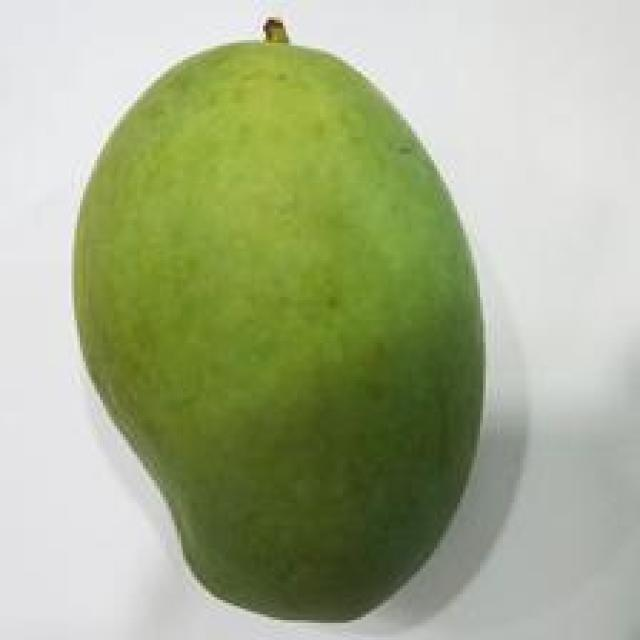Good_Mango: (69, 17, 489, 629)
